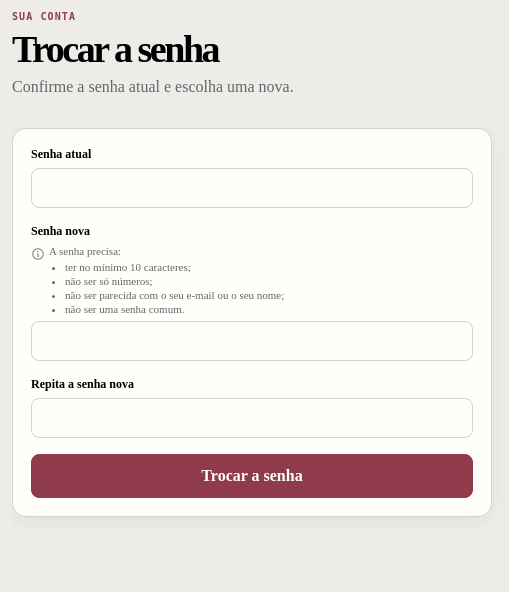
o pedido e os erros (RF-08) › too_many_requests com 42 s → a frase dele, a mensagem da API fora, o foco no botão
The image size is (509, 592).
In the password field labelled "Senha atual": (252, 188) [31, 168, 473, 208], type "senha-atual-1"
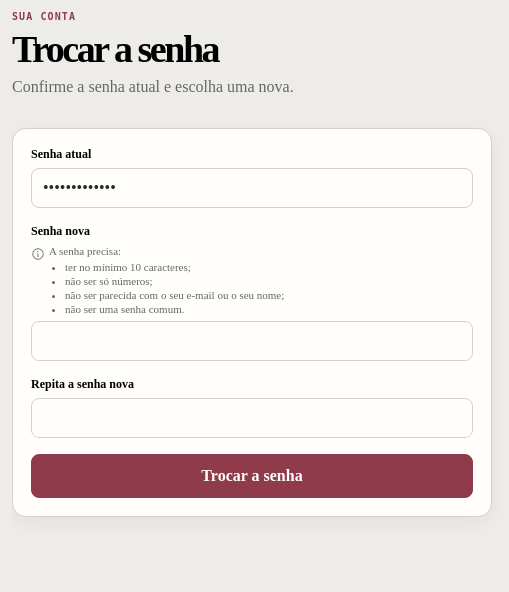
In the password field labelled "Senha nova": (252, 341) [31, 321, 473, 361], type "nova-senha-longa-9"
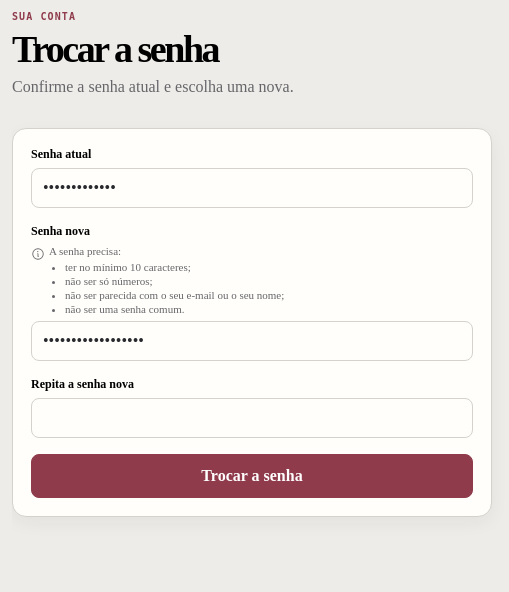
In the password field labelled "Repita a senha nova": (252, 418) [31, 398, 473, 438], type "nova-senha-longa-9"
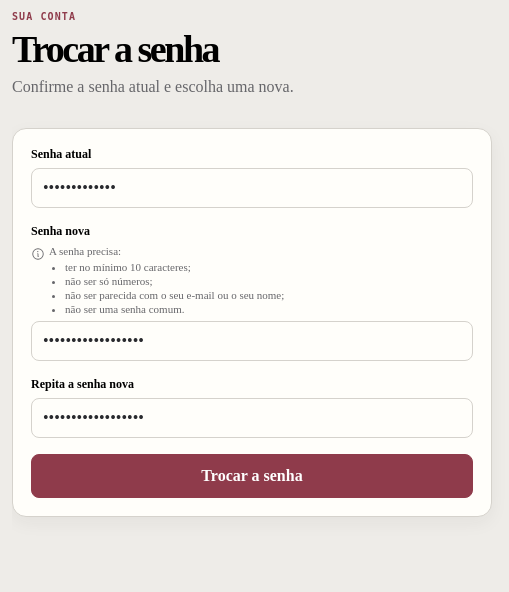
Click the button "Trocar a senha": (252, 476) [31, 454, 473, 498]
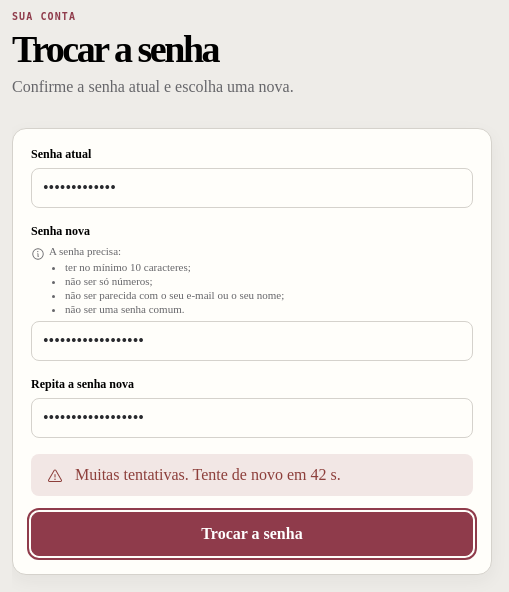
Expected: the message reads "Muitas tentativas. Tente de novo em 42 s.", [75, 466, 341, 483]
